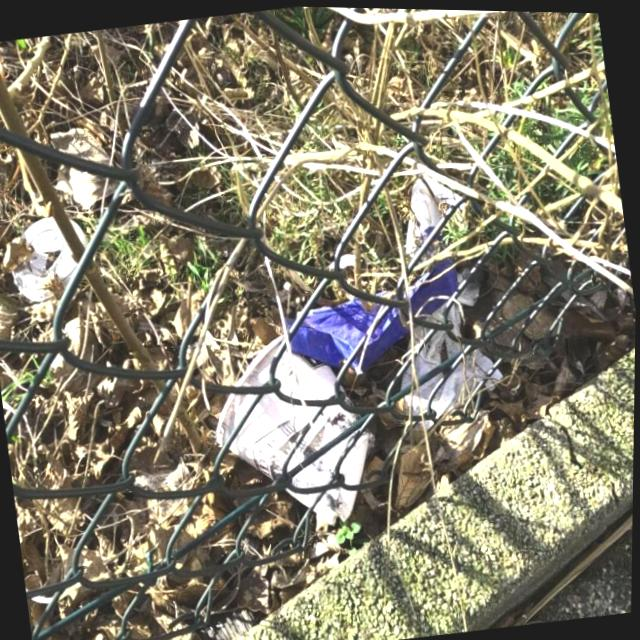Cup: (194, 325, 388, 552)
